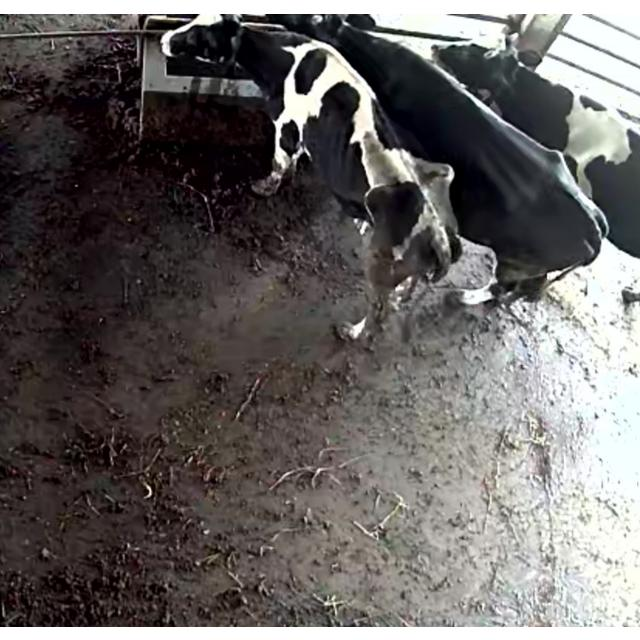drink: (277, 13, 419, 82)
